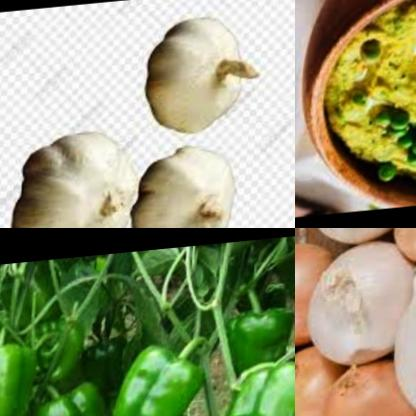bell pepper: (114, 344, 208, 416), (220, 310, 295, 386), (212, 362, 295, 416), (0, 335, 52, 416), (36, 377, 120, 416)
garlic: (143, 20, 262, 147), (10, 129, 141, 228), (133, 143, 253, 228)
onion: (304, 235, 416, 379), (316, 356, 416, 416), (386, 259, 416, 416), (295, 351, 350, 416), (295, 241, 325, 356), (303, 228, 416, 255), (389, 228, 416, 271)
peas: (369, 108, 416, 143), (357, 42, 393, 74), (356, 87, 379, 115), (373, 176, 400, 192)
